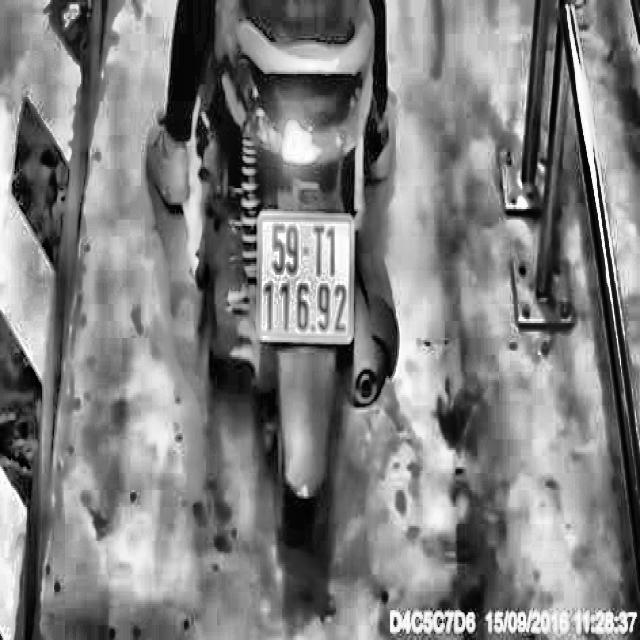plate: (250, 202, 362, 348)
